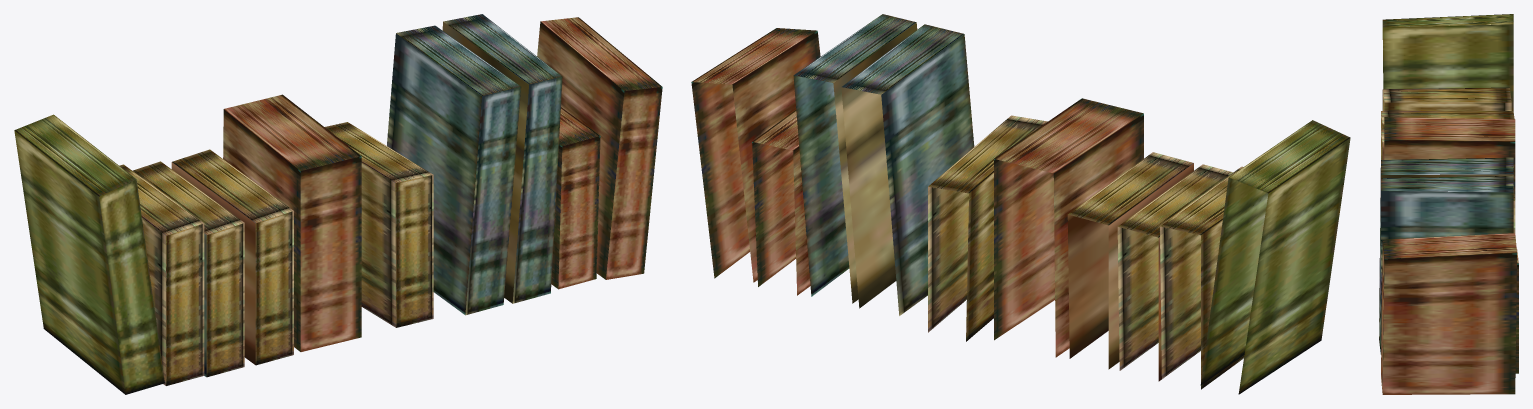
Rendered from o-hon1.glb.
3 views of the same model, side by side, from view 1: azimuth 30°, elevation 25°; view 2: azimuth 150°, elevation 25°; view 3: azimuth 270°, elevation 25° (orthographic). The views are drawn at different scales.
Parts seen in each view (by area): view 1: o_hon1; view 2: o_hon1; view 3: o_hon1.
Boxes of the visible parts, x1,y1,x2,y2 form: o_hon1: [14, 14, 662, 394]; o_hon1: [691, 14, 1350, 394]; o_hon1: [1379, 14, 1518, 394].
Size of the model in its own units: 288 by 109 by 78.
Materials: 1 (1 with a texture image).
